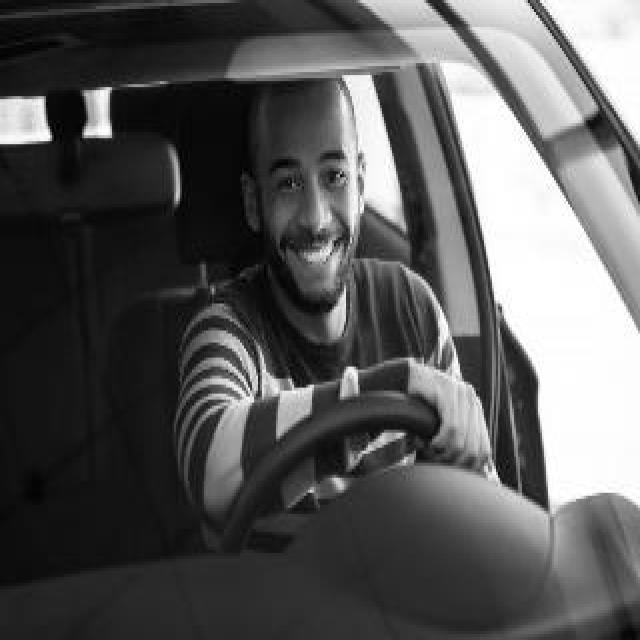Focused: (251, 130, 361, 308)
